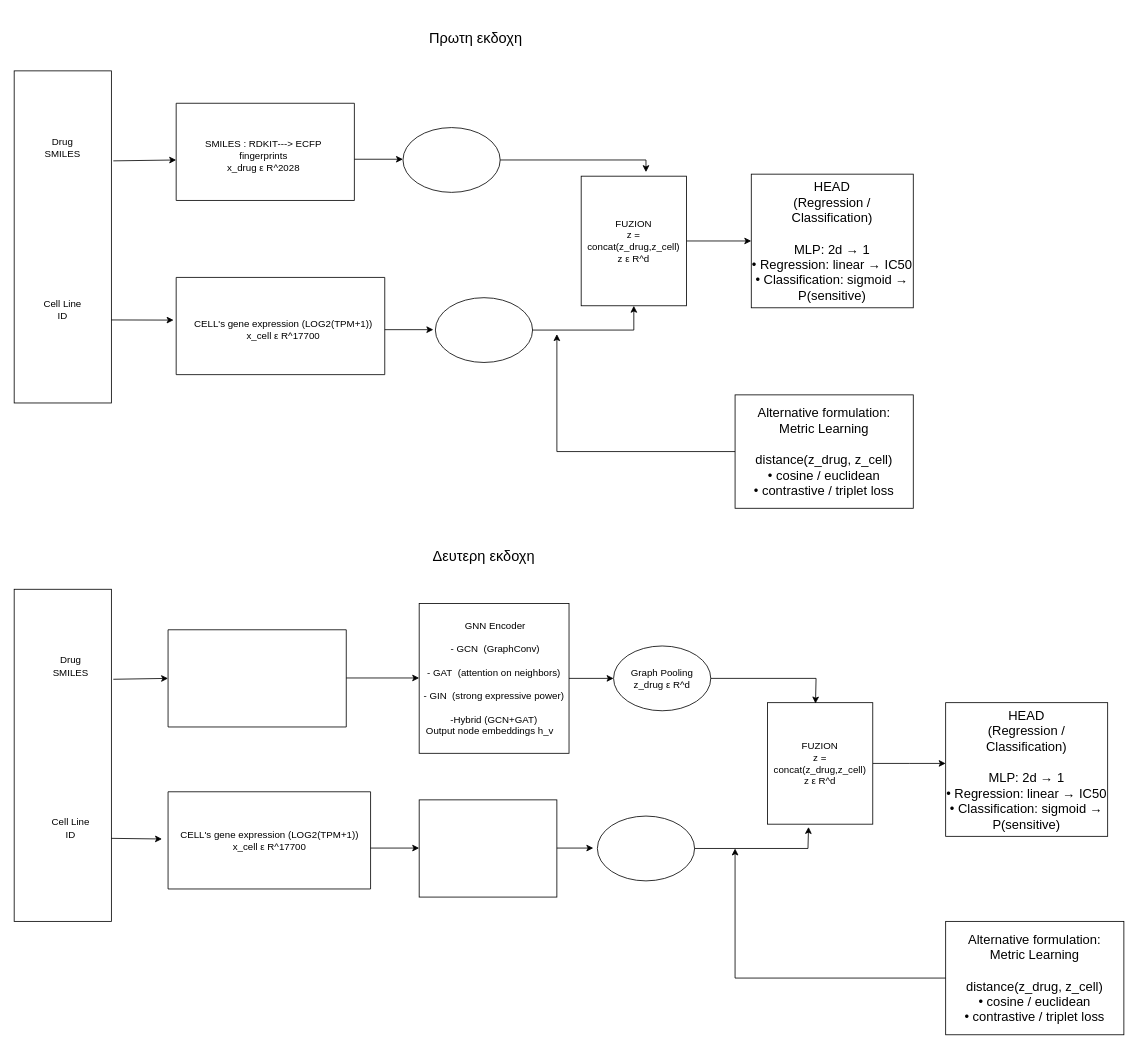
This 1138x1049 diagram has some shape labels left out. Each missing label, with the centre of its shape:
"MLP 17700-> d z_cell ε R^d" belongs at [484,329].
"MLP 2048 ->d z_drug ε R^d" belongs at [451,159].
"MLP k-> d z_cell ε R^d" belongs at [646,848].
"Preprocess + Cell Encoder PCA/AE 17700-> k" belongs at [487,848].
"SMILES : RDKIT mol---> GRAPH" belongs at [256,678].
